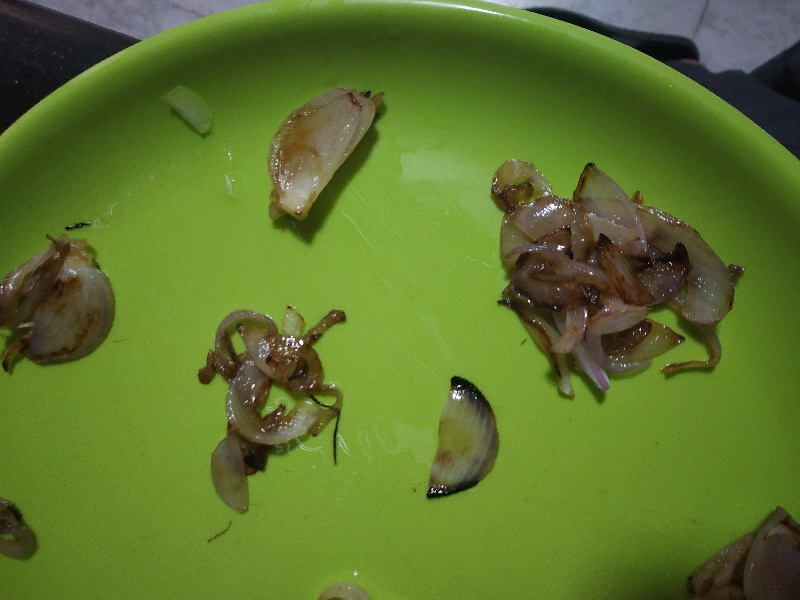onion_burnt: (446, 373, 490, 413)
onion_fried: (498, 144, 736, 395), (204, 305, 346, 514), (1, 231, 115, 380)
onion_golden: (267, 76, 384, 235)
